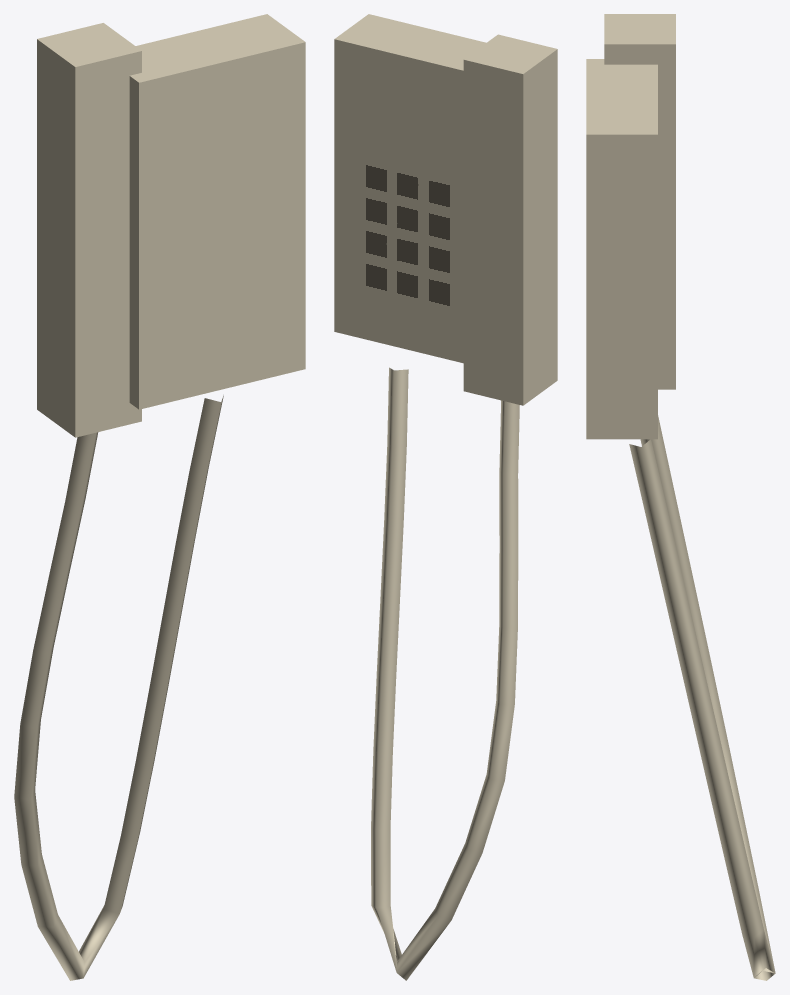
The model's file is cords-stretched-out-and.glb.
3 renders of one model, left to right at view 1: azimuth 30°, elevation 25°; view 2: azimuth 150°, elevation 25°; view 3: azimuth 270°, elevation 25°, orthographic. The views are drawn at different scales.
Bounding box in the file's own units: 0.5388 × 2.29 × 0.4223.
2 materials, 1 textured.
